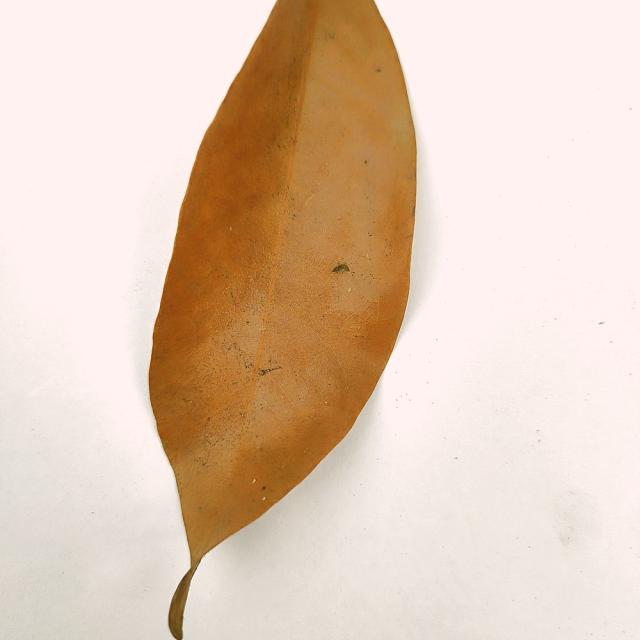Dry_Leaf-Lychee: (147, 0, 419, 639)
